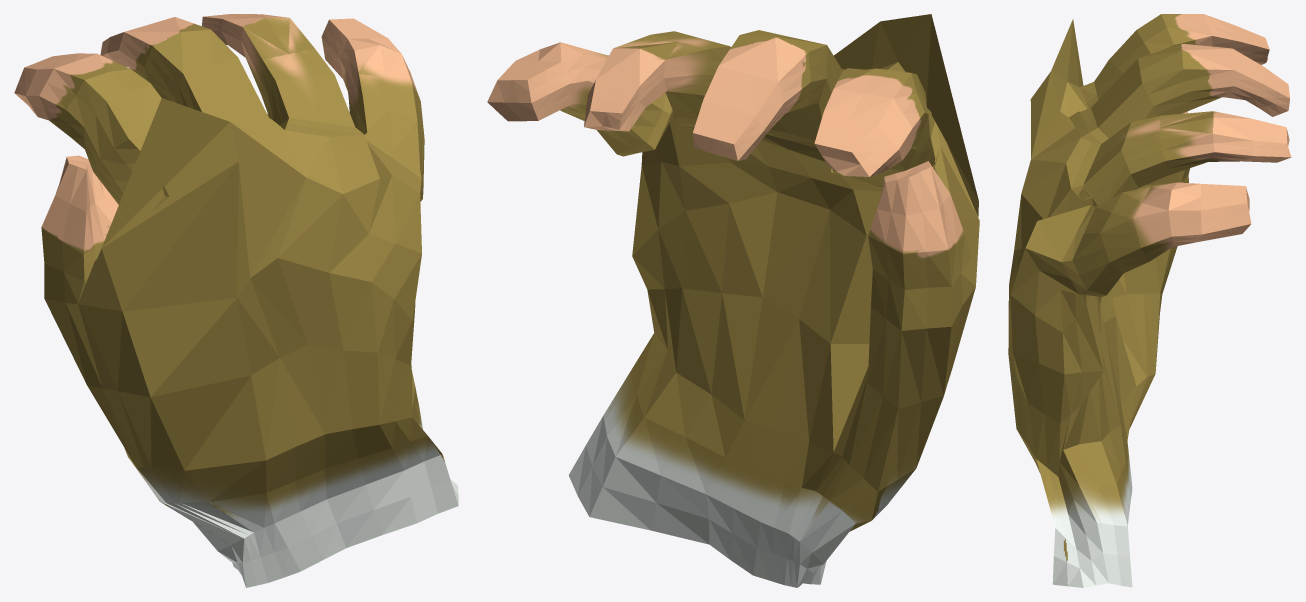
The model's file is grip0042.obj.
3 renders of one model, left to right at view 1: azimuth 30°, elevation 25°; view 2: azimuth 150°, elevation 25°; view 3: azimuth 270°, elevation 25°, orthographic. The views are drawn at different scales.
Visible parts, largest first — view 1: Hand; view 2: Hand; view 3: Hand.
Boxes of the visible parts, x1=… form: Hand: x1=14, y1=14, x2=458, y2=587; Hand: x1=487, y1=14, x2=979, y2=587; Hand: x1=1008, y1=14, x2=1291, y2=587.
Bounding box in the file's own units: 2.83 × 3.79 × 2.01.
